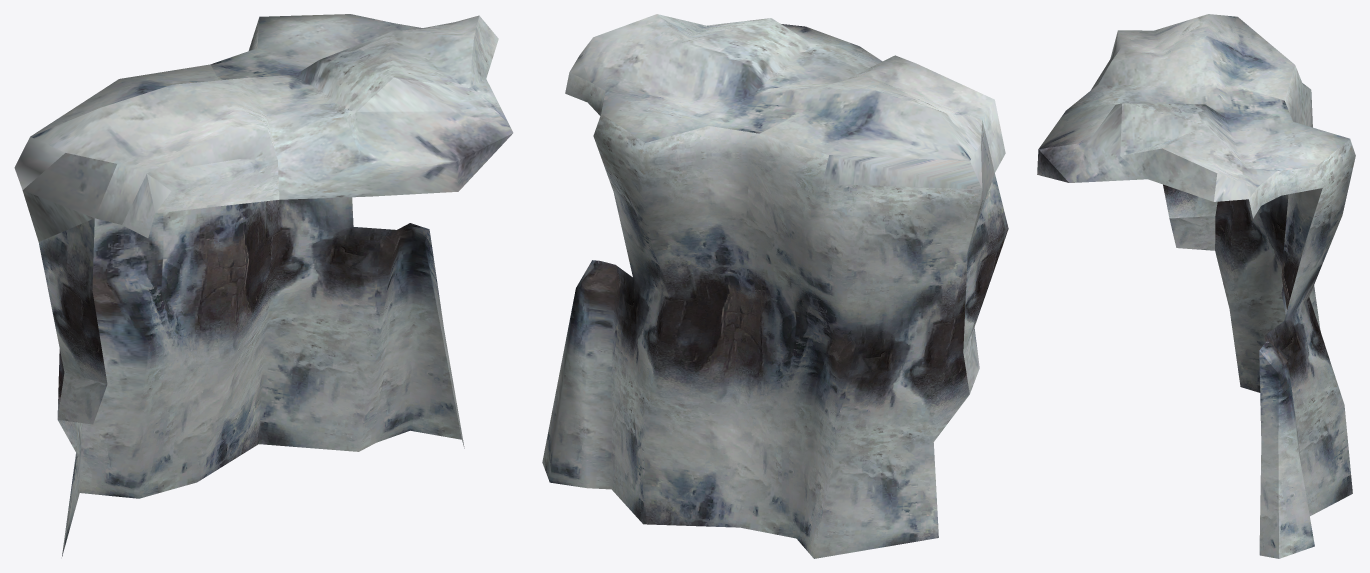
Rendered from S_Rock_White018_1.FBX.
3 renders of one model, left to right at view 1: azimuth 30°, elevation 25°; view 2: azimuth 150°, elevation 25°; view 3: azimuth 270°, elevation 25°, orthographic. The views are drawn at different scales.
Parts seen in each view (by area): view 1: S_Rock_White018_1; view 2: S_Rock_White018_1; view 3: S_Rock_White018_1.
Part boxes in pixels (bbox=[...]): S_Rock_White018_1: bbox=[14, 14, 513, 556]; S_Rock_White018_1: bbox=[542, 14, 1008, 558]; S_Rock_White018_1: bbox=[1037, 14, 1355, 558].
Size of the model in its own units: 920 by 651 by 878.
